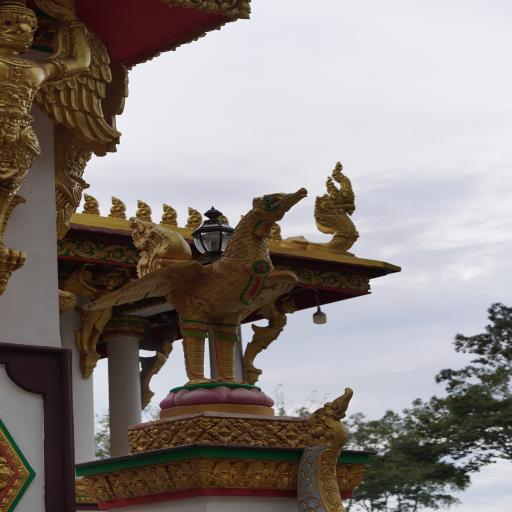lua: (80, 187, 102, 217), (155, 198, 178, 226), (106, 193, 127, 223), (187, 204, 204, 232), (134, 197, 150, 220)
ran: (91, 166, 313, 406), (310, 154, 370, 250)
than: (0, 0, 130, 277)
